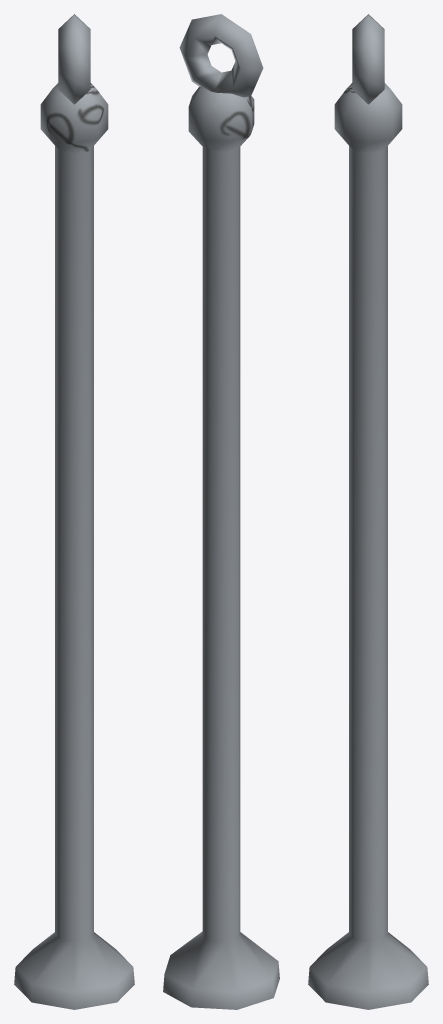
File: SM_Pole.fbx
3 renders of one model, left to right at view 1: azimuth 90°, elevation 25°; view 2: azimuth 150°, elevation 25°; view 3: azimuth 270°, elevation 25°, orthographic.
Parts seen in each view (by area): view 1: SM_pole; view 2: SM_pole; view 3: SM_pole.
Part boxes in pixels (left/top/right/bottom): SM_pole: left=14, top=14, right=134, bottom=1009; SM_pole: left=163, top=14, right=279, bottom=1009; SM_pole: left=308, top=14, right=428, bottom=1009.
Bounding box in the file's own units: 39.54 × 350 × 39.54.
